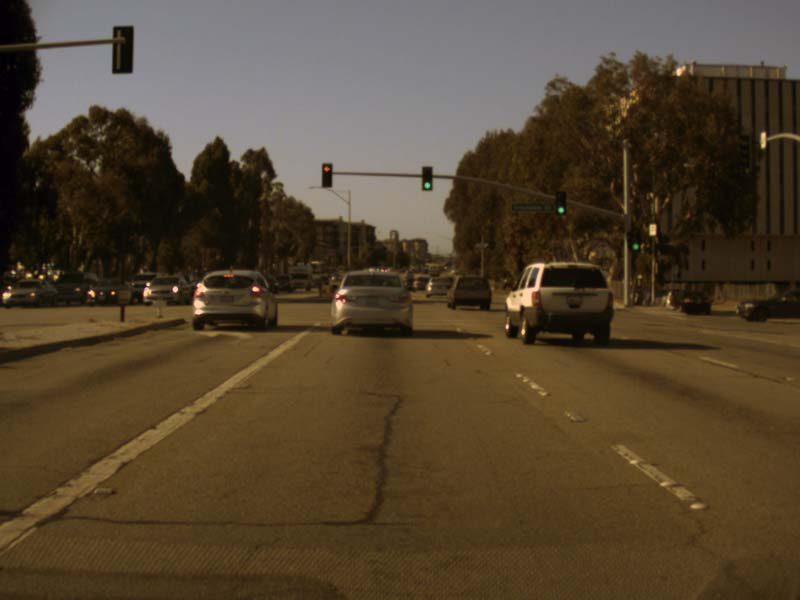Green: (554, 190, 565, 214), (421, 166, 431, 190), (631, 228, 640, 252)
Red: (321, 162, 331, 187)
